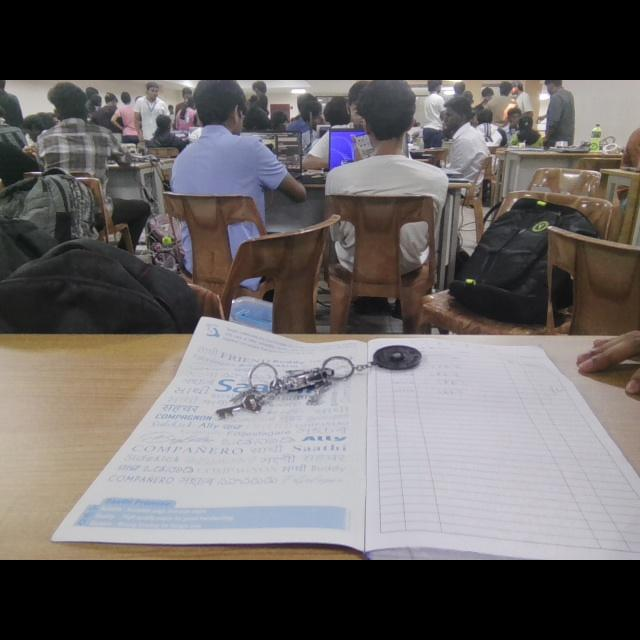keys: (206, 336, 424, 430)
